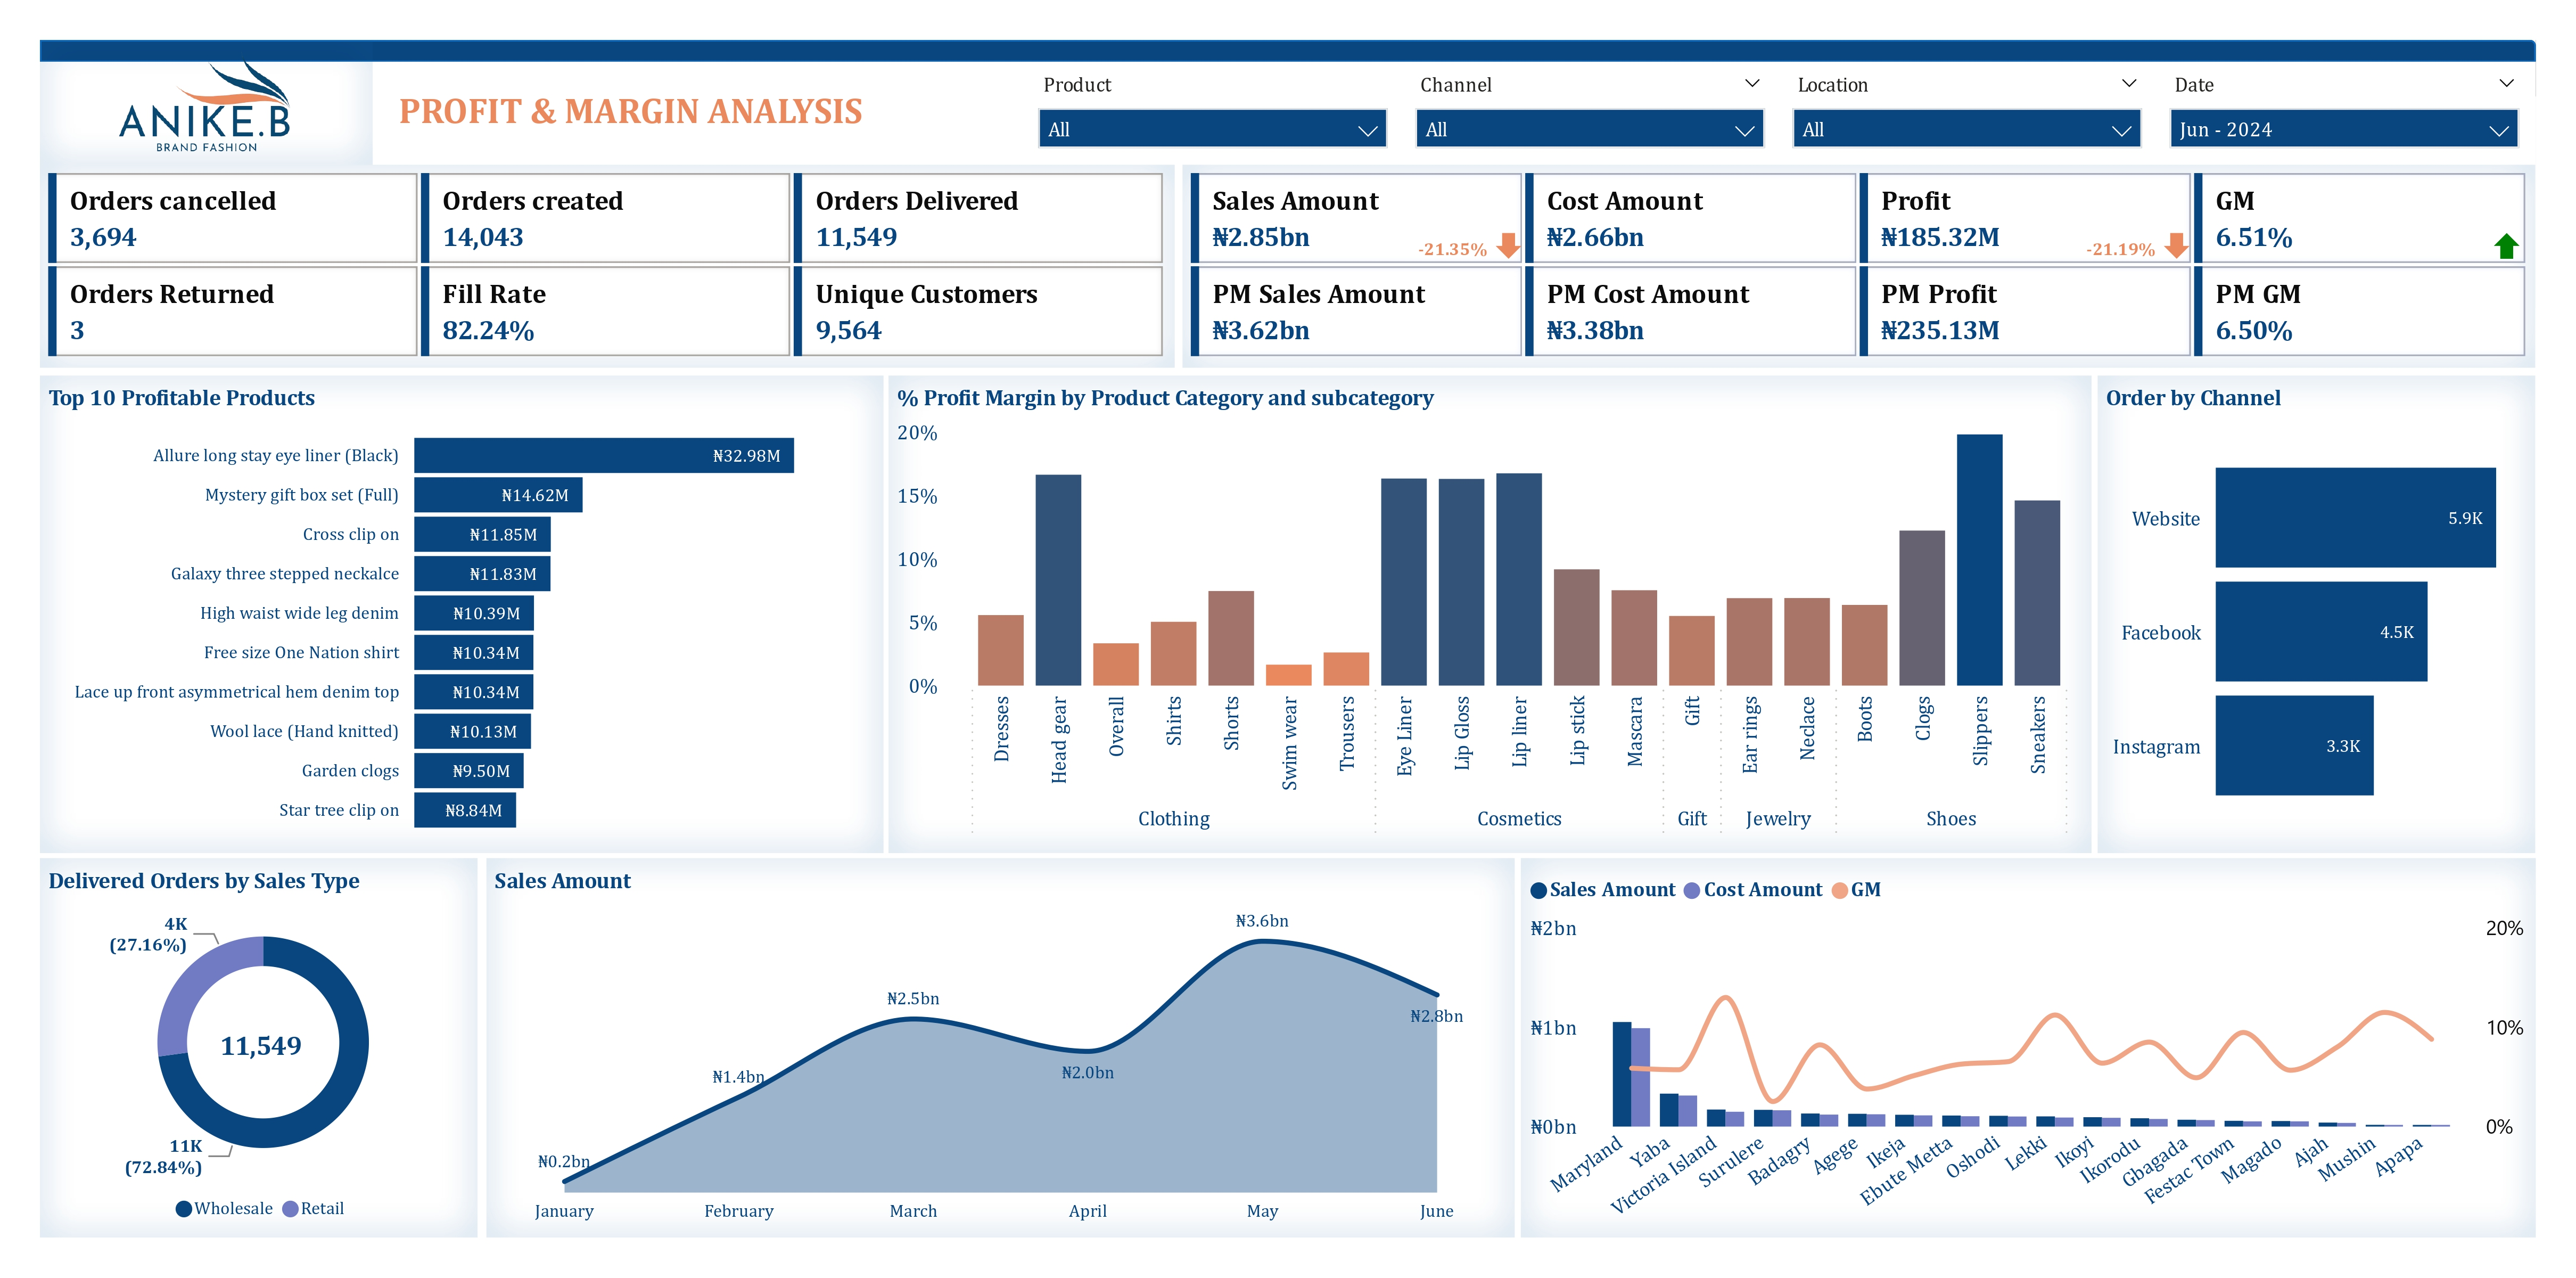

This screenshot's page, from the dashboard's own definition file:
{"tool":"powerbi","page":{"name":"Margin Analysis","canvas":[1500,720],"ordinal":0},"visuals":[{"type":"cardVisual","fields":{"Data":["DAX.Sales Amount","DAX.Cost Amount","DAX.Profit","DAX.GM","DAX.PM Sales Amount","DAX.PM Cost Amount","DAX.PM Profit","DAX.PM GM"]},"box":[686.7,75,813.3,121.7],"z":0},{"type":"donutChart","title":"Delivered Orders by Sales Type","fields":{"Category":["Sales.Sale Type"],"Y":["DAX.Order Type"]},"box":[0,491.7,263.3,228.3],"z":1000,"group":"g1"},{"type":"cardVisual","fields":{"Data":["DAX.Orders cancelled","DAX.Orders created","DAX.Orders Delivered","DAX.Orders Returned","DAX.Fill Rate","DAX.Customers"]},"box":[0,75,682,121.7],"z":1000},{"type":"clusteredBarChart","title":"Top 10 Profitable Products","fields":{"Category":["Product List.Product Name"],"Y":["DAX.Profit"]},"box":[0,201.7,506.7,286.7],"z":2000},{"type":"slicer","fields":{"Values":["Calender.Month-Year"]},"box":[1270,15,230,56.7],"z":3000},{"type":"card","fields":{"Values":["DAX.Order Type"]},"box":[90,586.7,85,38.3],"z":3000,"group":"g1"},{"type":"slicer","fields":{"Values":["Product List.Category","Product List.SubCategory","Product List.Product Name"]},"box":[590,15,230,56.7],"z":4000},{"type":"slicer","fields":{"Values":["Location.City"]},"box":[1043.3,15,230,56.7],"z":5000},{"type":"clusteredColumnChart","title":"% Profit Margin  by Product Category and subcategory","fields":{"Category":["Product List.Category","Product List.SubCategory","Product List.Product Name"],"Y":["DAX.GM"]},"box":[510,201.7,723.3,286.7],"z":6000},{"type":"shape","box":[0,0,1500,13.3],"z":7000},{"type":"textbox","box":[200,25,310,43.3],"z":8000},{"type":"lineClusteredColumnComboChart","fields":{"Category":["Location.City"],"Y":["DAX.Sales Amount","DAX.Cost Amount"],"Y2":["DAX.GM"]},"box":[890,491.7,610,228.3],"z":9000},{"type":"clusteredBarChart","title":"Order by Channel","fields":{"Y":["DAX.Order Count"],"Category":["Sales.Channel"]},"box":[1236.7,201.7,263.3,286.7],"z":10000},{"type":"areaChart","title":"Sales Amount","fields":{"Category":["Calender.Month Name"],"Y":["DAX.Sales Amount"]},"box":[268.3,491.7,618.3,228.3],"z":11000},{"type":"slicer","fields":{"Values":["Sales.Channel"]},"box":[816.7,15,230,56.7],"z":12000},{"type":"image","box":[0,0,200,75],"z":13000},{"type":"group","id":"g1","title":"Group 1","box":[0,491.7,263.3,228.3],"z":14000},{"type":"card","fields":{"Values":["DAX.YoY Sales"]},"box":[820,113.3,58.3,20],"z":15000},{"type":"card","fields":{"Values":["DAX.YoY Profit"]},"box":[1221.7,113.3,58.3,20],"z":16000},{"type":"card","fields":{"Values":["DAX.Arrow"]},"box":[870,111.7,25,26.7],"z":17000},{"type":"card","fields":{"Values":["DAX.YoY Profit Arrow"]},"box":[1271.7,111.7,25,26.7],"z":18000},{"type":"card","fields":{"Values":["DAX.YoY GM Arrow"]},"box":[1470,111.7,25,26.7],"z":19000}]}

Visuals, with their boxes on the page's 1500x720 design canvas (x1, y1, x2, y2). These are canvas units, not pixel positions in the 2576x1278 screenshot, which may show the page scaled, cropped or inside an application window:
cardVisual - DAX.Sales Amount x DAX.Cost Amount: box(687, 75, 1500, 197)
"Delivered Orders by Sales Type" donutChart: box(0, 492, 263, 720)
cardVisual - DAX.Orders cancelled x DAX.Orders created: box(0, 75, 682, 197)
"Top 10 Profitable Products" clusteredBarChart: box(0, 202, 507, 488)
slicer - Calender.Month-Year: box(1270, 15, 1500, 72)
card - DAX.Order Type: box(90, 587, 175, 625)
slicer - Product List.Category x Product List.SubCategory: box(590, 15, 820, 72)
slicer - Location.City: box(1043, 15, 1273, 72)
"% Profit Margin  by Product Category and subcategory" clusteredColumnChart: box(510, 202, 1233, 488)
shape: box(0, 0, 1500, 13)
textbox: box(200, 25, 510, 68)
lineClusteredColumnComboChart - Location.City x DAX.Sales Amount: box(890, 492, 1500, 720)
"Order by Channel" clusteredBarChart: box(1237, 202, 1500, 488)
"Sales Amount" areaChart: box(268, 492, 887, 720)
slicer - Sales.Channel: box(817, 15, 1047, 72)
image: box(0, 0, 200, 75)
"Group 1" group: box(0, 492, 263, 720)
card - DAX.YoY Sales: box(820, 113, 878, 133)
card - DAX.YoY Profit: box(1222, 113, 1280, 133)
card - DAX.Arrow: box(870, 112, 895, 138)
card - DAX.YoY Profit Arrow: box(1272, 112, 1297, 138)
card - DAX.YoY GM Arrow: box(1470, 112, 1495, 138)
